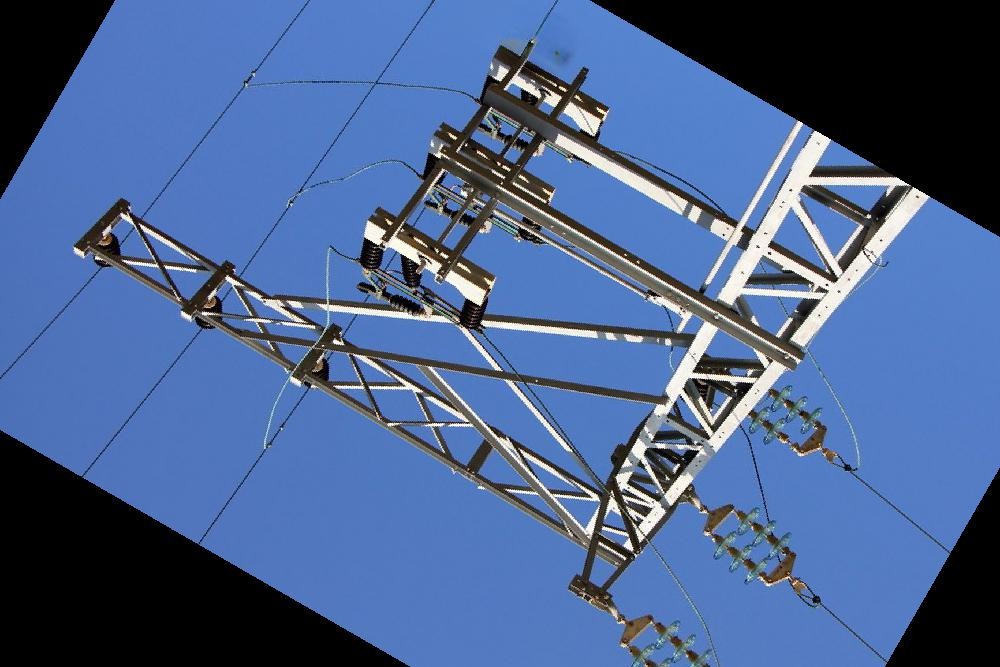insulator: (732, 505, 796, 563), (711, 529, 773, 588), (650, 618, 720, 667), (768, 383, 829, 437), (745, 404, 792, 449), (627, 640, 679, 667)
insulator_stringdrop: (760, 414, 803, 459)
